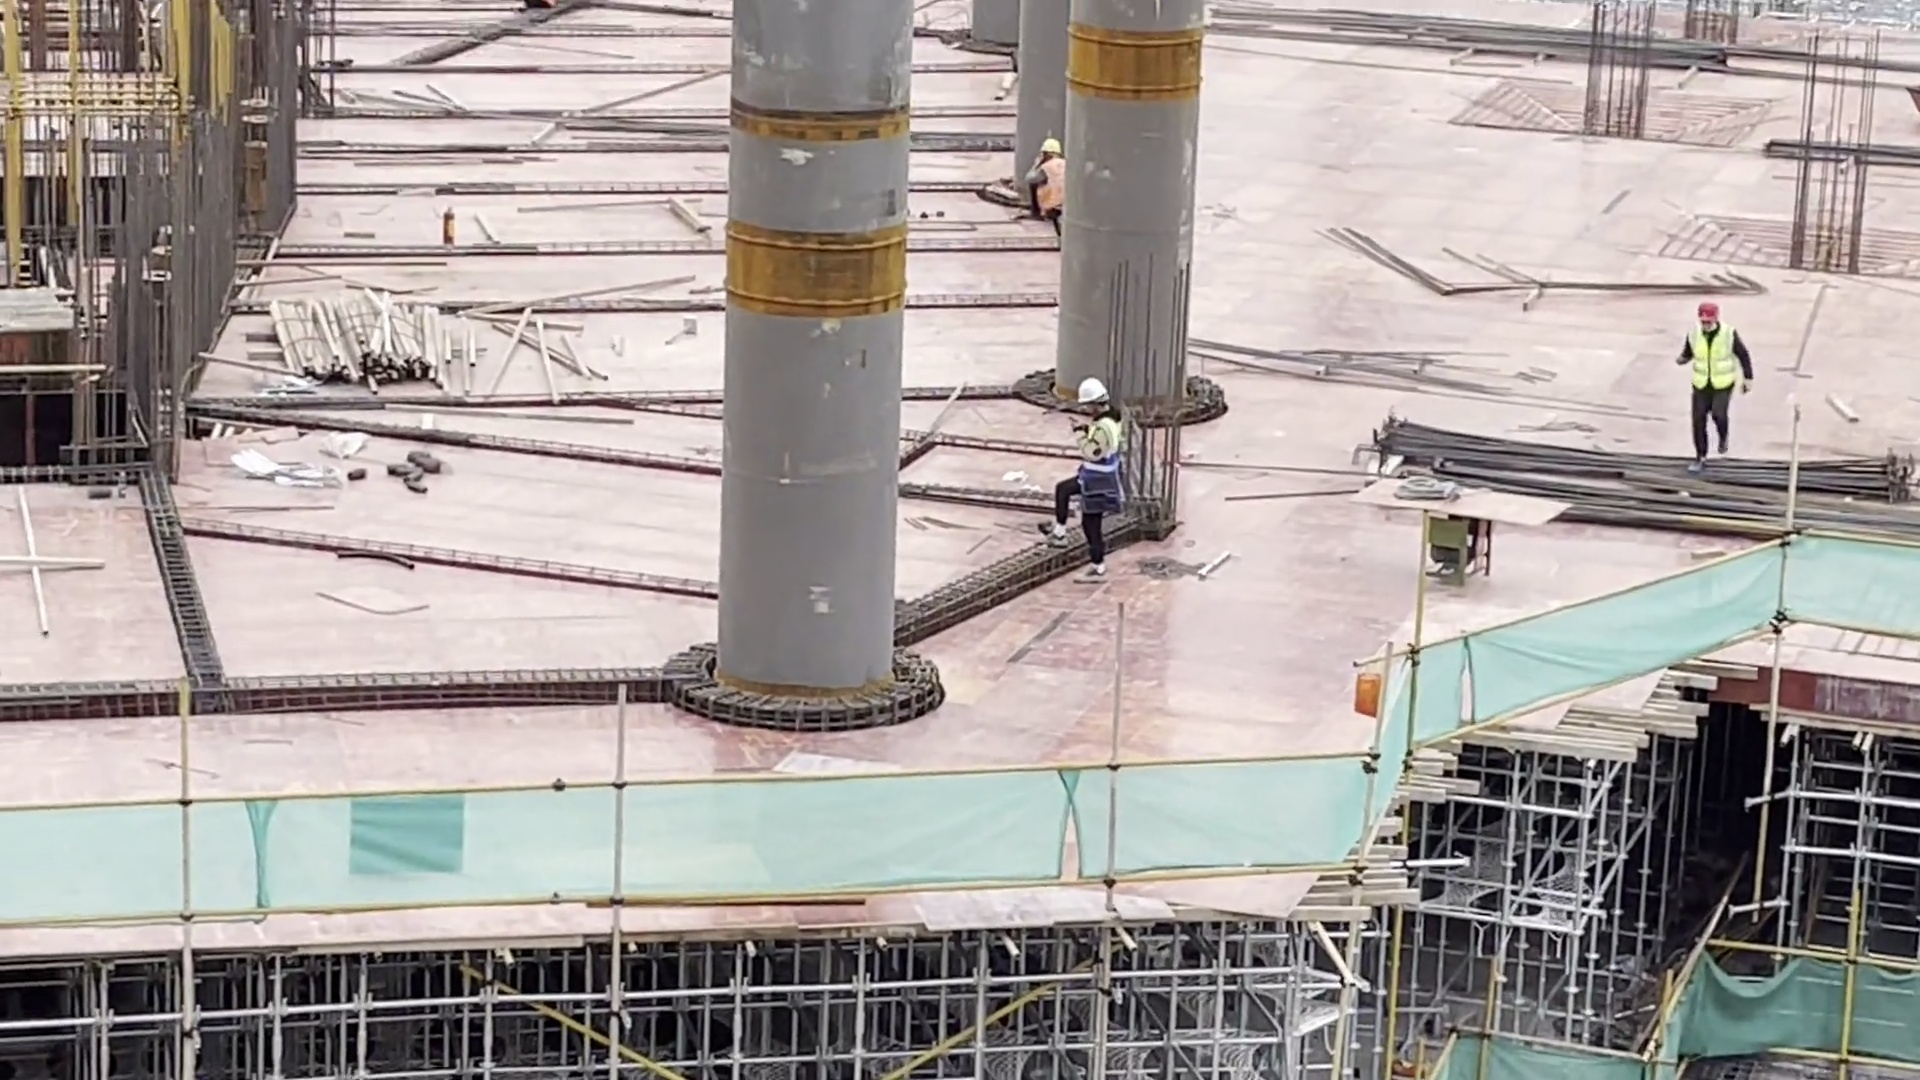helmet: (1074, 376, 1114, 404), (1699, 297, 1732, 323), (1042, 137, 1067, 159)
person: (1055, 371, 1126, 584), (1681, 289, 1755, 475), (1026, 131, 1076, 264)
rebar: (1386, 413, 1918, 536)
scaffold: (267, 286, 492, 397)
vest: (1074, 422, 1128, 496), (1688, 330, 1744, 397), (1033, 167, 1074, 218)
